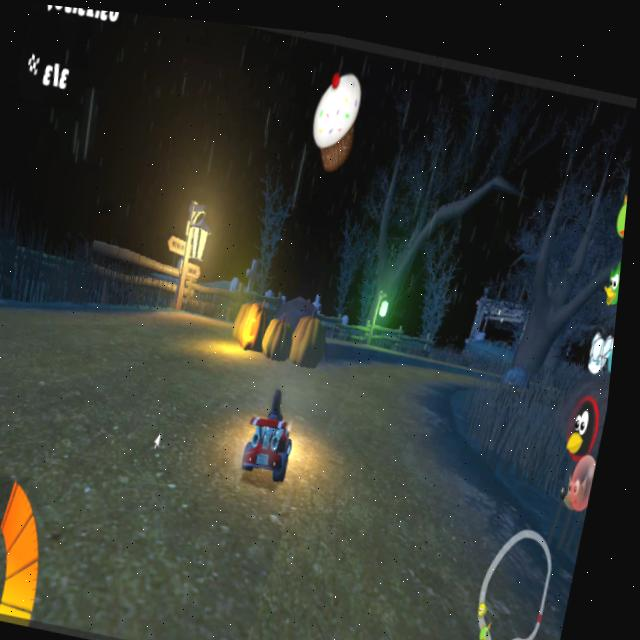player_kart: (242, 373, 314, 487)
track: (13, 279, 250, 532), (299, 322, 483, 532)
